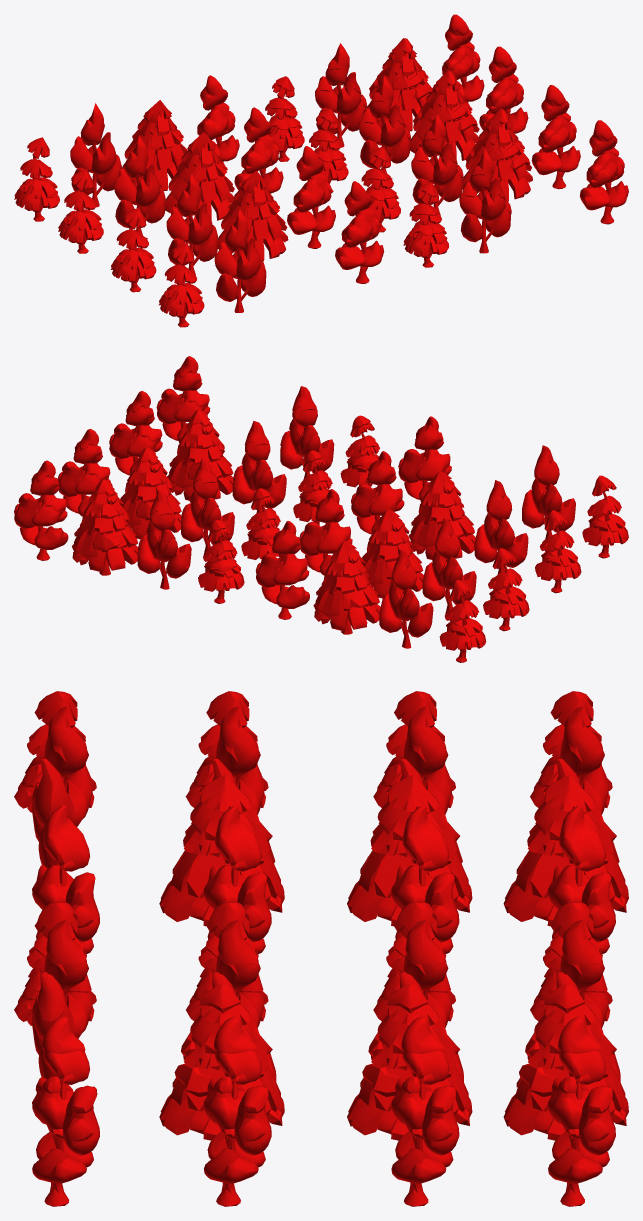
File: Asset_Trees_01.glb
The picture shows the model from 3 angles, top to bottom: view 1: azimuth 30°, elevation 25°; view 2: azimuth 150°, elevation 25°; view 3: azimuth 270°, elevation 25°; orthographic projection. The views are drawn at different scales.
Parts seen in each view (by area): view 1: Tree_346, Tree_06, Tree_54, Tree_184, Tree_183, Tree_351, Tree_05, Tree_348, Tree_55, Tree_180, Tree_07, Tree_188 (+18 smaller); view 2: Tree_58, Tree_185, Tree_06, Tree_183, Tree_57, Tree_186, Tree_59, Tree_181, Tree_184, Tree_54, Tree_07, Tree_182 (+18 smaller); view 3: Tree_53, Tree_05, Tree_57, Tree_348, Tree_58, Tree_06, Tree_54, Tree_185, Tree_183, Tree_184, Tree_351, Tree_346 (+18 smaller).
Boxes of the visible parts, x1=… form: Tree_346: x1=459, y1=149, x2=511, y2=253; Tree_06: x1=462, y1=108, x2=532, y2=201; Tree_54: x1=410, y1=70, x2=479, y2=160; Tree_184: x1=165, y1=132, x2=234, y2=220; Tree_183: x1=217, y1=170, x2=288, y2=261; Tree_351: x1=214, y1=209, x2=266, y2=312; Tree_05: x1=531, y1=85, x2=580, y2=189; Tree_348: x1=580, y1=120, x2=628, y2=224; Tree_55: x1=358, y1=75, x2=411, y2=172; Tree_180: x1=114, y1=135, x2=165, y2=235; Tree_07: x1=411, y1=114, x2=463, y2=215; Tree_188: x1=287, y1=146, x2=335, y2=248; Tree_58: x1=72, y1=479, x2=138, y2=575; Tree_185: x1=313, y1=541, x2=380, y2=634; Tree_06: x1=167, y1=409, x2=233, y2=500; Tree_183: x1=408, y1=471, x2=475, y2=559; Tree_57: x1=14, y1=460, x2=68, y2=560; Tree_186: x1=255, y1=521, x2=309, y2=619; Tree_59: x1=137, y1=490, x2=191, y2=589; Tree_181: x1=379, y1=549, x2=433, y2=648; Tree_184: x1=362, y1=509, x2=423, y2=598; Tree_54: x1=120, y1=447, x2=181, y2=539; Tree_07: x1=232, y1=421, x2=286, y2=512; Tree_182: x1=474, y1=480, x2=528, y2=574; Tree_53: x1=391, y1=1016, x2=459, y2=1206; Tree_05: x1=203, y1=1016, x2=271, y2=1206; Tree_57: x1=548, y1=1016, x2=615, y2=1206; Tree_348: x1=32, y1=1016, x2=99, y2=1206; Tree_58: x1=503, y1=984, x2=628, y2=1140; Tree_06: x1=159, y1=984, x2=284, y2=1140; Tree_54: x1=347, y1=984, x2=472, y2=1140; Tree_185: x1=503, y1=775, x2=628, y2=926; Tree_183: x1=159, y1=775, x2=284, y2=926; Tree_184: x1=347, y1=775, x2=472, y2=926; Tree_351: x1=32, y1=706, x2=92, y2=868; Tree_346: x1=32, y1=919, x2=92, y2=1079.
Bounding box in the file's own units: 20.03 × 4.16 × 12.77.
